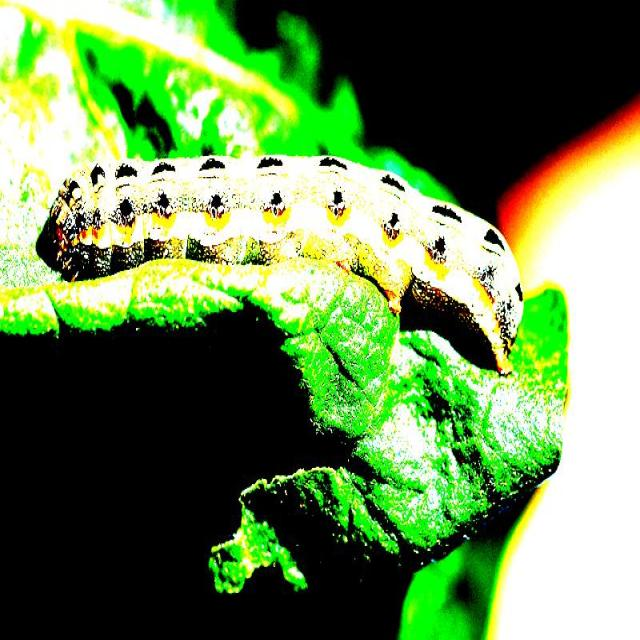Armyworm: (31, 120, 554, 399)
